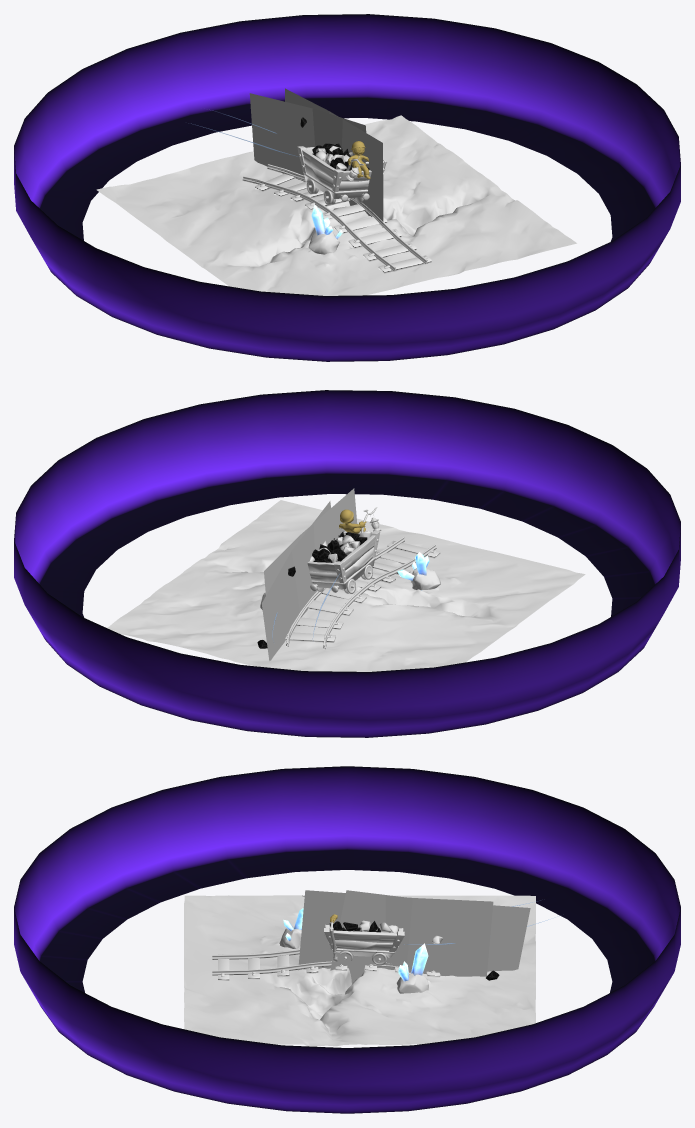
Rendered from Minecart.fbx.
3 views of the same model, one above another, from view 1: azimuth 30°, elevation 25°; view 2: azimuth 150°, elevation 25°; view 3: azimuth 270°, elevation 25° (orthographic).
Visible parts, largest first — view 1: Cylinder.001, Ground_low, fx.001, RailsBoards_low, fx, Rail2_low, Rail_low, Rock2_low; view 2: Cylinder.001, Ground_low, fx.001, RailsBoards_low, fx, Rail2_low; view 3: Cylinder.001, Ground_low, fx, fx.001, RailsBoards_low, Rail_low, Minecart016_low.
Boxes of the visible parts, x1,y1,x2,y2 form: Cylinder.001: (14, 14, 680, 361); Ground_low: (96, 115, 576, 295); fx.001: (249, 93, 366, 181); RailsBoards_low: (255, 174, 431, 273); fx: (285, 88, 383, 227); Rail2_low: (242, 176, 396, 271); Rail_low: (267, 164, 427, 264); Rock2_low: (308, 229, 339, 254); Cylinder.001: (14, 390, 680, 737); Ground_low: (107, 500, 585, 671); fx.001: (261, 501, 330, 660); RailsBoards_low: (285, 540, 440, 642); fx: (264, 488, 357, 595); Rail2_low: (323, 544, 436, 649); Cylinder.001: (14, 766, 680, 1113); Ground_low: (184, 895, 535, 1046); fx: (298, 890, 493, 976); fx.001: (330, 890, 530, 983); RailsBoards_low: (218, 950, 440, 980); Rail_low: (212, 961, 398, 975); Minecart016_low: (333, 930, 396, 943).
Size of the model in its own units: 11144 by 2287 by 11144.
